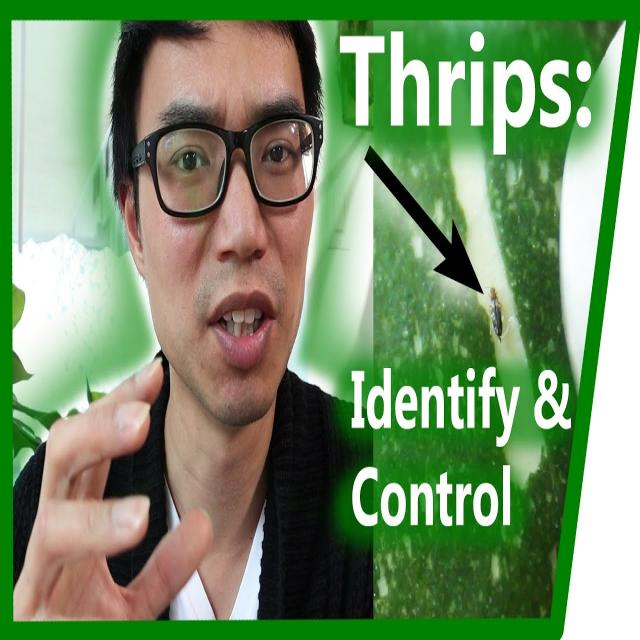Thrip-Adult-: (487, 278, 507, 347)
